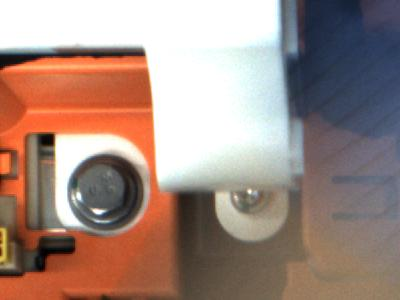nut_b: (61, 154, 148, 229)
